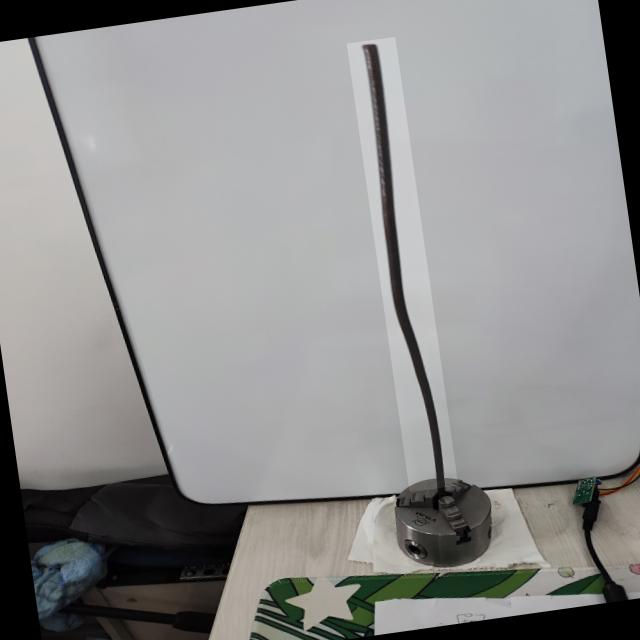plain round bar: (346, 36, 458, 492)
